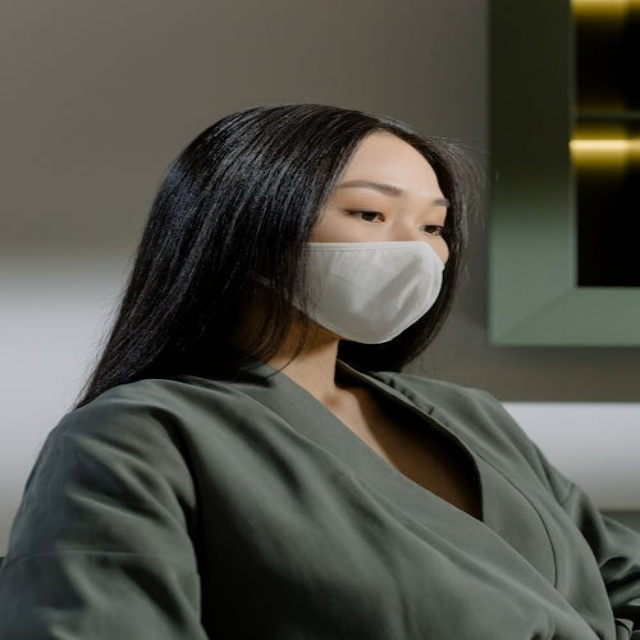Mascara: (288, 237, 446, 343)
Sin_gafas: (345, 209, 386, 224), (421, 224, 446, 237)
